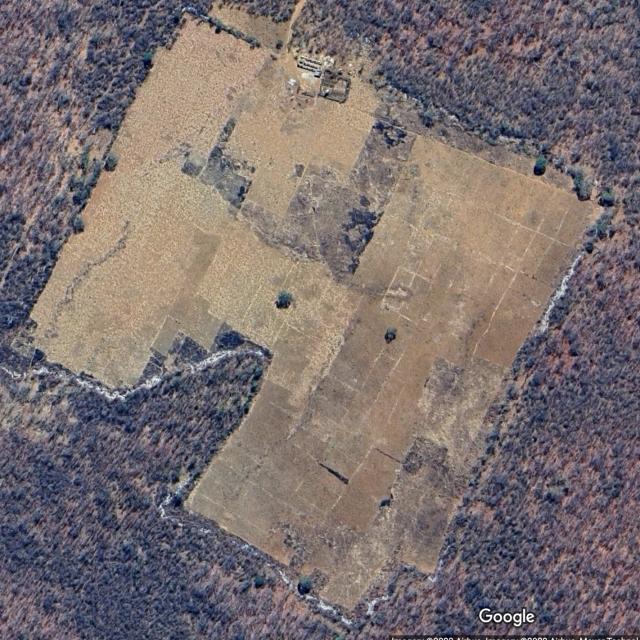boundaries: (31, 3, 618, 635), (10, 5, 195, 356)
